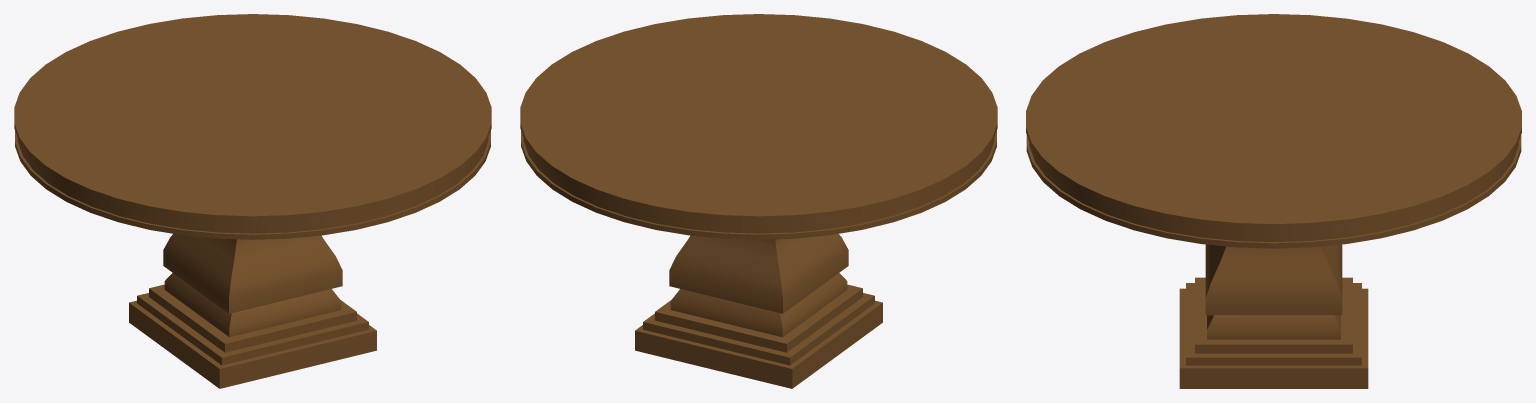
The model's file is mesa.obj.
The picture shows the model from 3 angles, left to right: view 1: azimuth 30°, elevation 25°; view 2: azimuth 150°, elevation 25°; view 3: azimuth 270°, elevation 25°; orthographic projection. The views are drawn at different scales.
Visible parts, largest first — view 1: mesa2:Mesh; view 2: mesa2:Mesh; view 3: mesa2:Mesh.
Part boxes in pixels (x1,y1,x2,y2): mesa2:Mesh: (14,14,491,388); mesa2:Mesh: (520,14,997,388); mesa2:Mesh: (1026,14,1521,388).
Size of the model in its own units: 3.42 by 1.74 by 3.41.
1 material, 1 textured.
